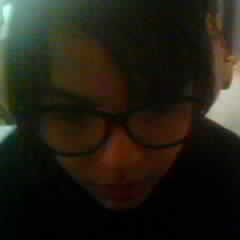without_mask: (42, 36, 196, 213)
